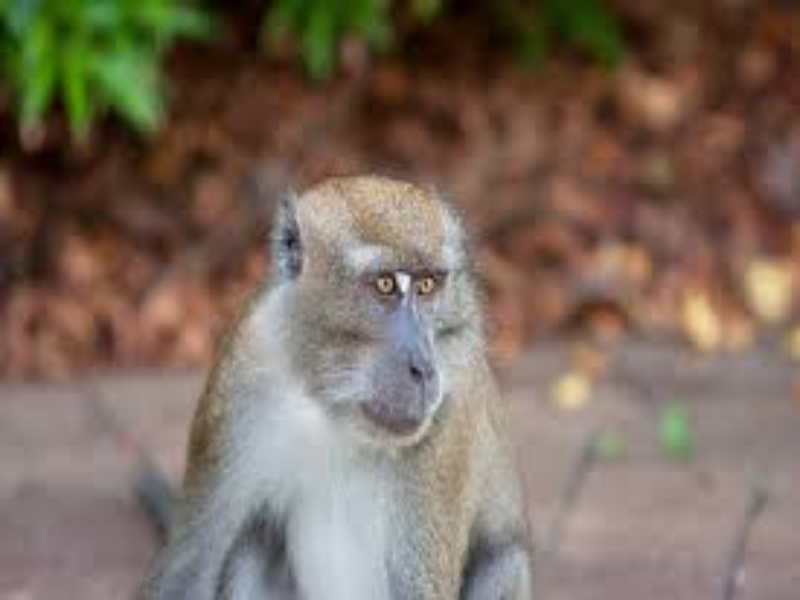monkey: (170, 160, 549, 594)
